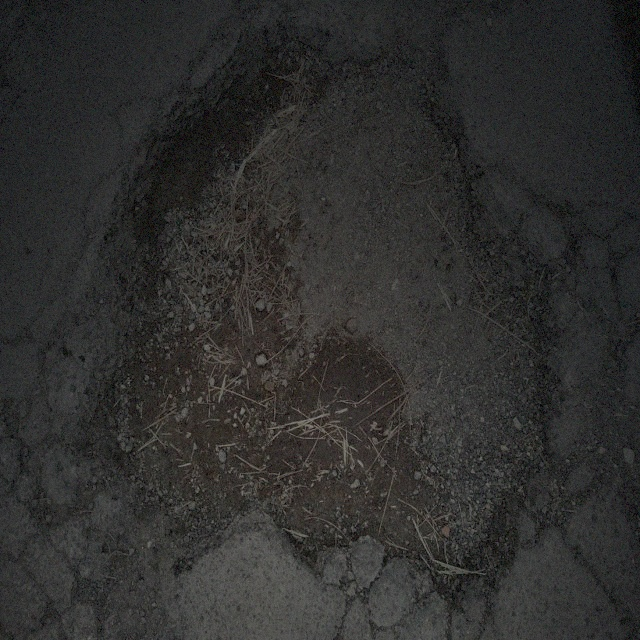pothole: (99, 29, 563, 596)
